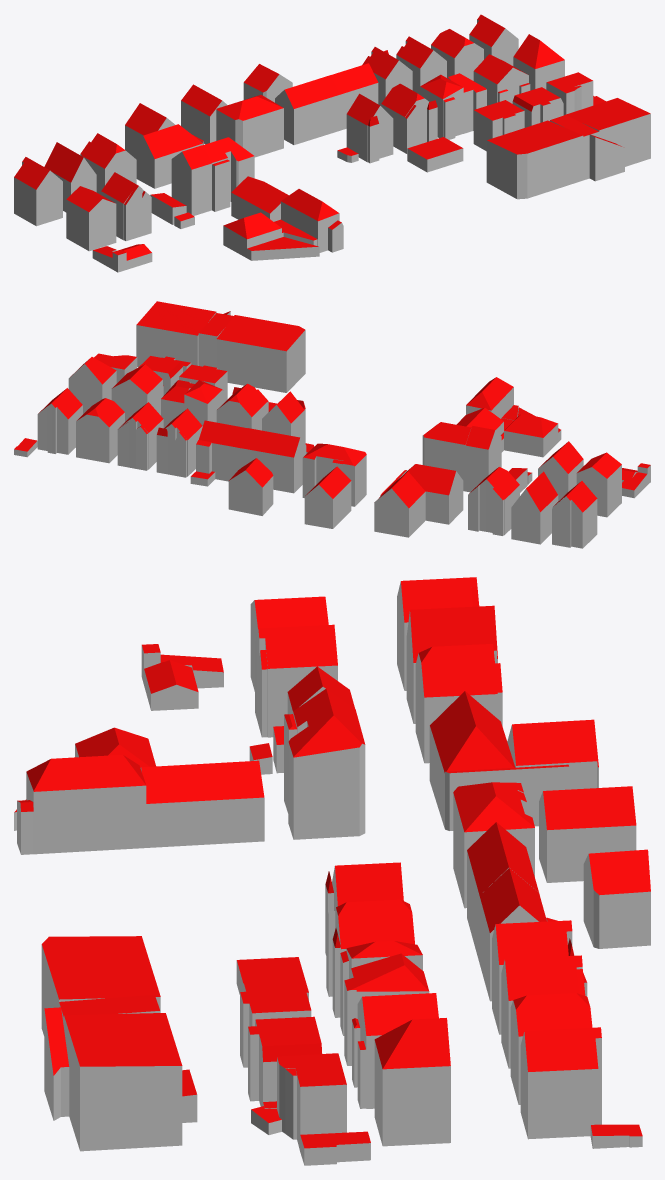
3 renders of one model, top to bottom at view 1: azimuth 30°, elevation 25°; view 2: azimuth 150°, elevation 25°; view 3: azimuth 270°, elevation 25°, orthographic. The views are drawn at different scales.
Size of the model in its own units: 200 by 20.79 by 107.
